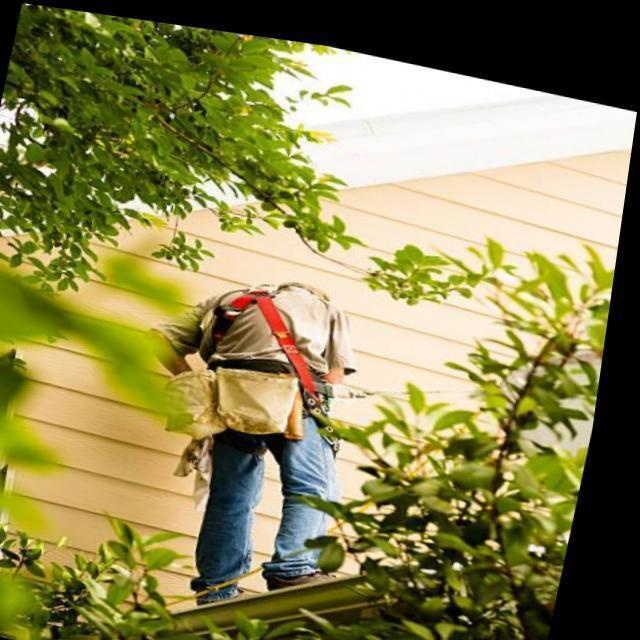Arnes_seguridad: (204, 283, 340, 455)
